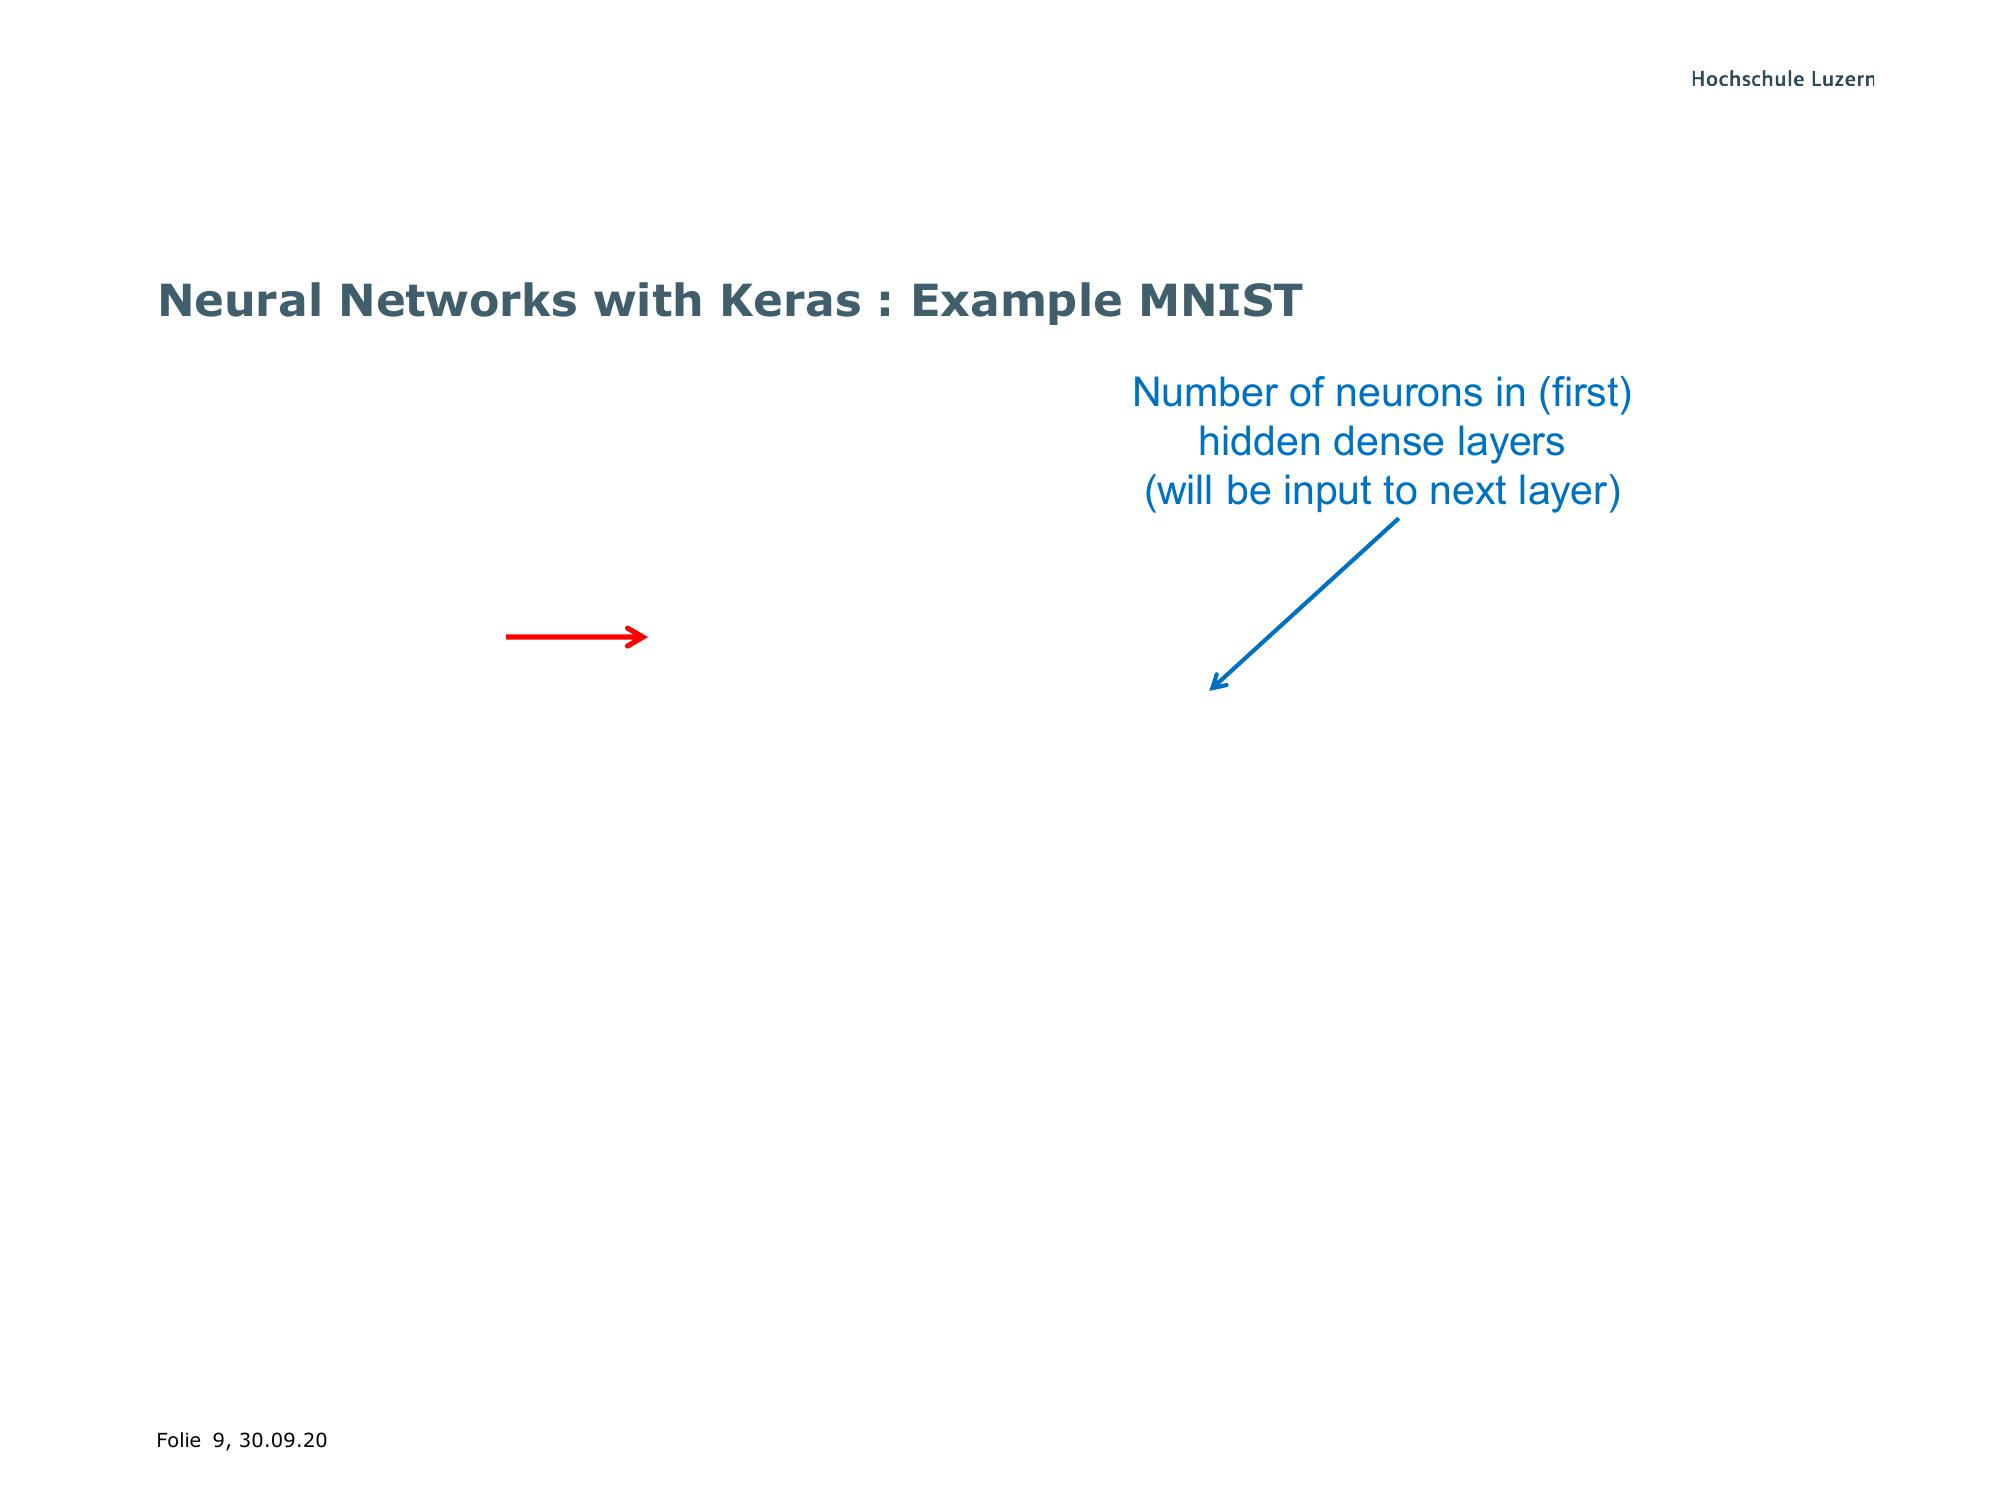Title: (128, 265, 1313, 350)
